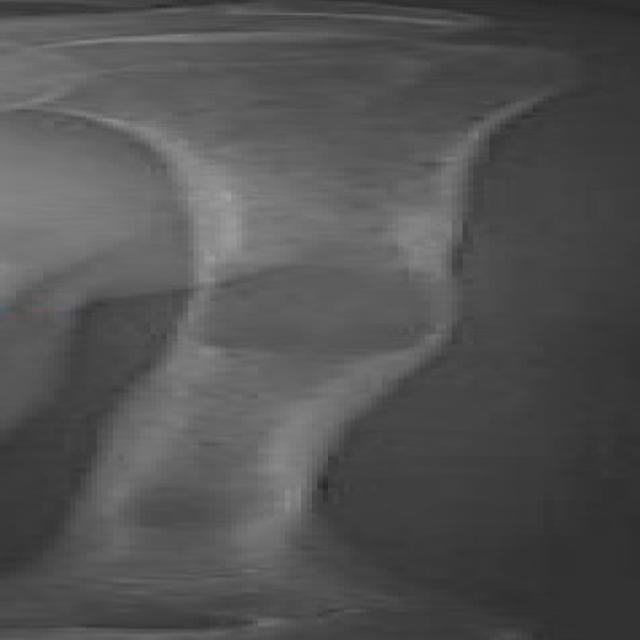pathological: (117, 125, 528, 393)
